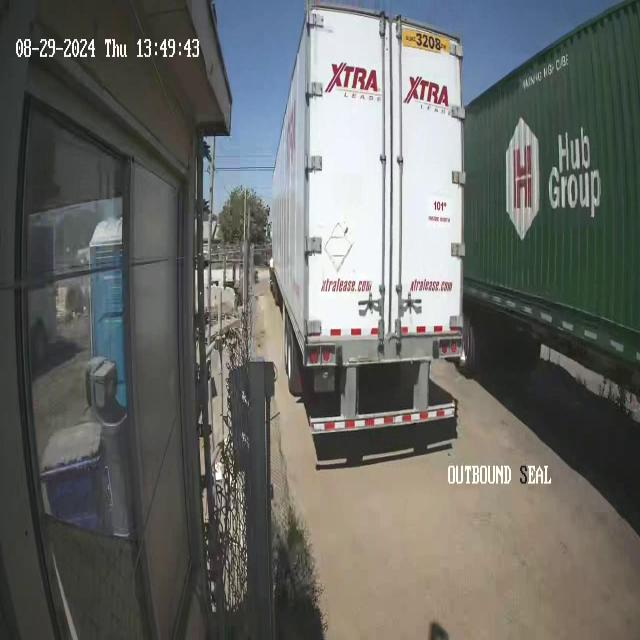CONTAINER: (270, 4, 468, 366), (471, 1, 633, 394)
